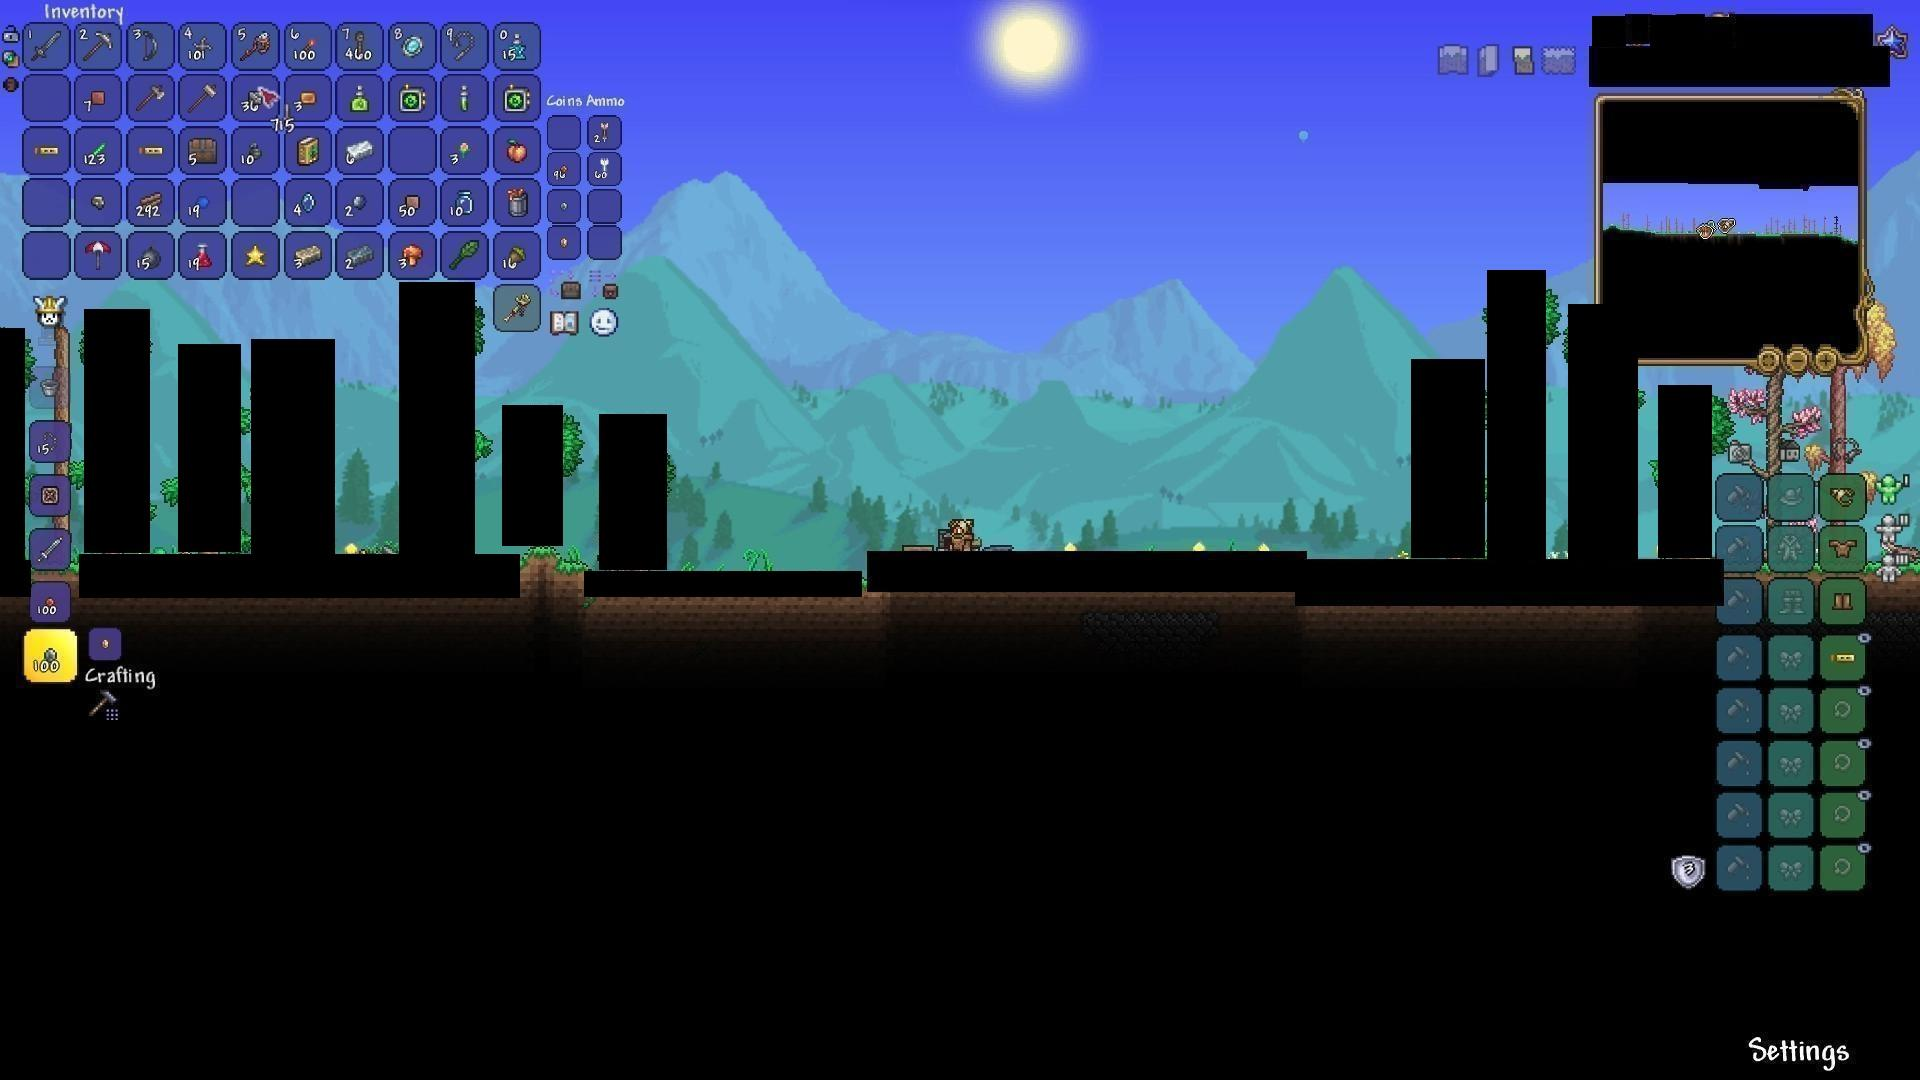breastplate: (1830, 538, 1858, 558)
dirt: (520, 549, 585, 589)
legs: (1830, 589, 1858, 615)
tree: (1729, 367, 1804, 473)
wood: (138, 186, 169, 215)
